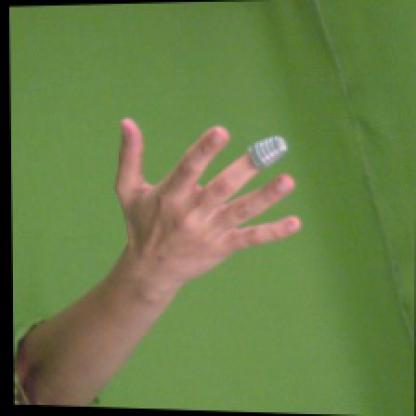Hand: (115, 117, 303, 292)
